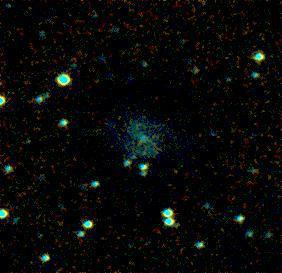star: (129, 139, 159, 169)
